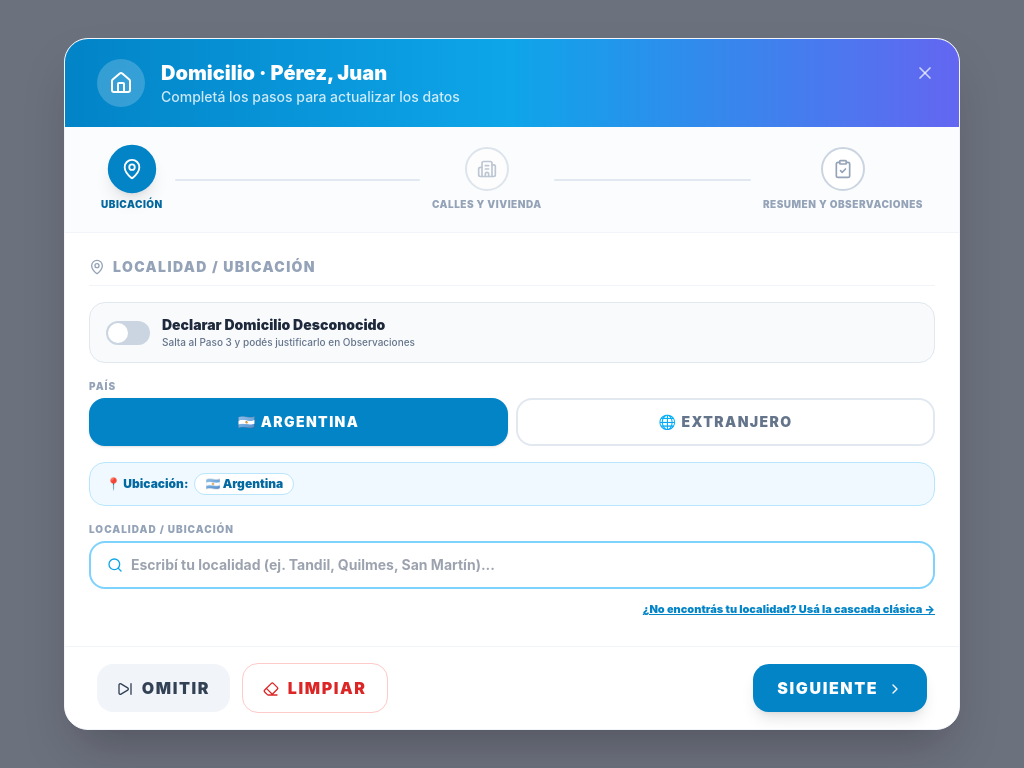
Scenario: PersonaDomicilioModal · stepper clicable › navega al paso 3 al clickear el ícono de Resumen y Observaciones
Click the button with aria-label "Ir al paso 3: Resumen y Observaciones" at (843, 180), box [759,143,927,216]
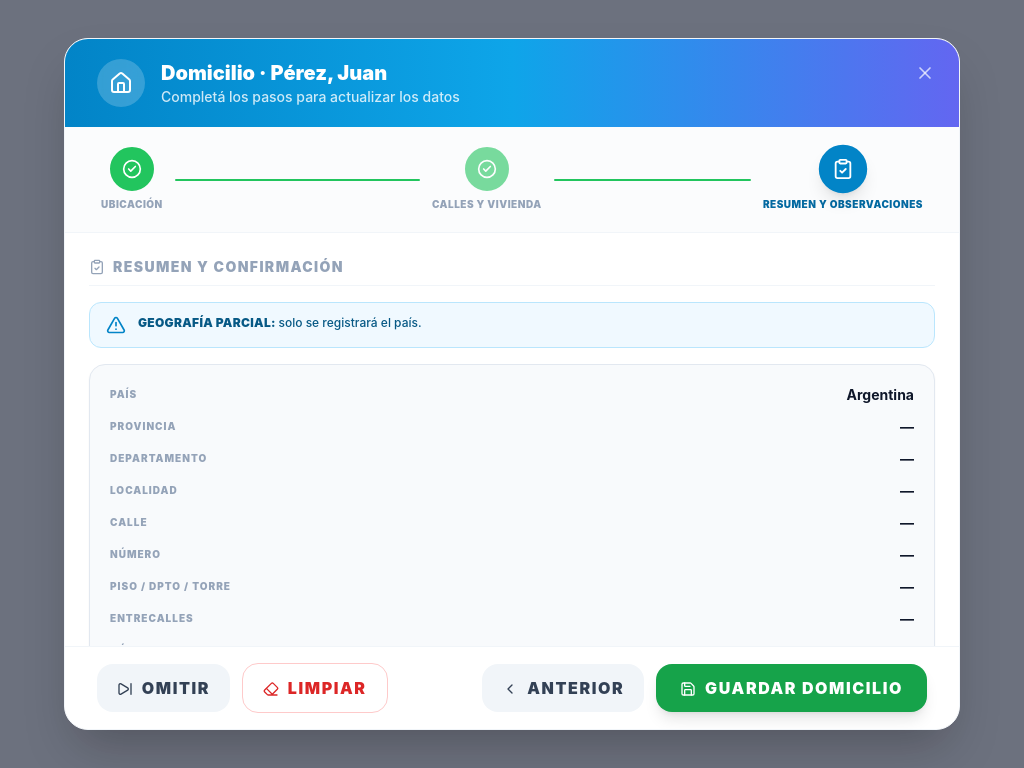
Expected: the button "Guardar Domicilio" is shown, [656,664,927,712]
